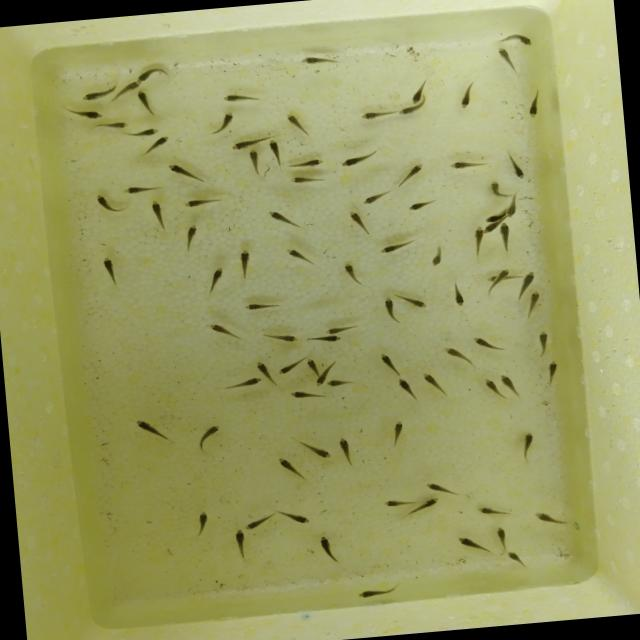fingerling: (130, 412, 175, 448), (205, 317, 248, 346), (263, 203, 303, 234), (190, 421, 224, 457), (390, 159, 429, 190), (165, 158, 208, 186), (454, 530, 494, 560), (490, 42, 522, 79), (96, 248, 122, 292), (273, 452, 309, 483), (292, 52, 346, 72), (254, 324, 303, 346), (202, 260, 230, 298), (335, 147, 381, 170), (284, 107, 316, 140), (204, 108, 236, 140), (418, 368, 452, 398), (218, 88, 266, 109), (520, 288, 548, 324), (344, 205, 374, 238), (374, 235, 420, 256), (232, 245, 258, 282), (133, 86, 161, 120), (283, 242, 317, 270), (353, 581, 403, 600), (456, 76, 482, 112), (338, 258, 367, 290), (529, 505, 569, 528), (274, 504, 312, 528), (316, 532, 342, 567), (285, 152, 330, 172), (385, 414, 410, 450), (90, 190, 123, 217), (146, 197, 170, 234), (228, 526, 254, 560), (242, 295, 284, 316), (470, 499, 510, 521), (439, 342, 474, 367), (334, 434, 358, 470), (286, 170, 333, 188), (180, 192, 227, 210), (374, 349, 404, 377), (446, 155, 492, 173), (506, 147, 529, 183), (522, 86, 546, 120), (530, 327, 556, 358), (497, 28, 537, 48), (118, 180, 162, 198), (396, 372, 420, 405), (244, 509, 278, 532), (64, 104, 107, 122), (89, 116, 132, 134), (471, 332, 506, 354), (515, 429, 537, 464), (422, 476, 459, 496), (222, 374, 263, 392), (243, 146, 266, 178), (400, 290, 432, 313), (446, 280, 472, 308), (266, 136, 286, 172), (135, 64, 169, 85), (139, 134, 171, 156), (180, 221, 202, 253), (304, 439, 334, 462), (228, 133, 266, 151), (484, 178, 514, 200), (357, 190, 391, 208), (191, 508, 211, 538), (427, 243, 449, 270), (379, 494, 416, 510), (491, 524, 512, 552), (497, 220, 513, 256), (404, 197, 439, 213), (504, 547, 528, 570), (121, 125, 161, 138), (288, 388, 324, 402), (357, 108, 395, 121), (544, 356, 560, 386), (306, 332, 342, 345), (322, 322, 360, 334), (79, 88, 111, 102), (473, 226, 486, 260), (518, 268, 540, 288), (497, 371, 519, 390), (272, 362, 300, 376), (382, 294, 397, 320), (482, 375, 499, 397), (304, 355, 323, 374), (251, 358, 271, 376), (420, 494, 440, 512), (324, 377, 356, 388), (504, 199, 520, 219), (396, 104, 417, 118), (123, 79, 141, 91), (407, 92, 422, 104), (482, 222, 496, 234), (314, 374, 326, 387), (483, 214, 499, 223), (496, 268, 511, 277)
